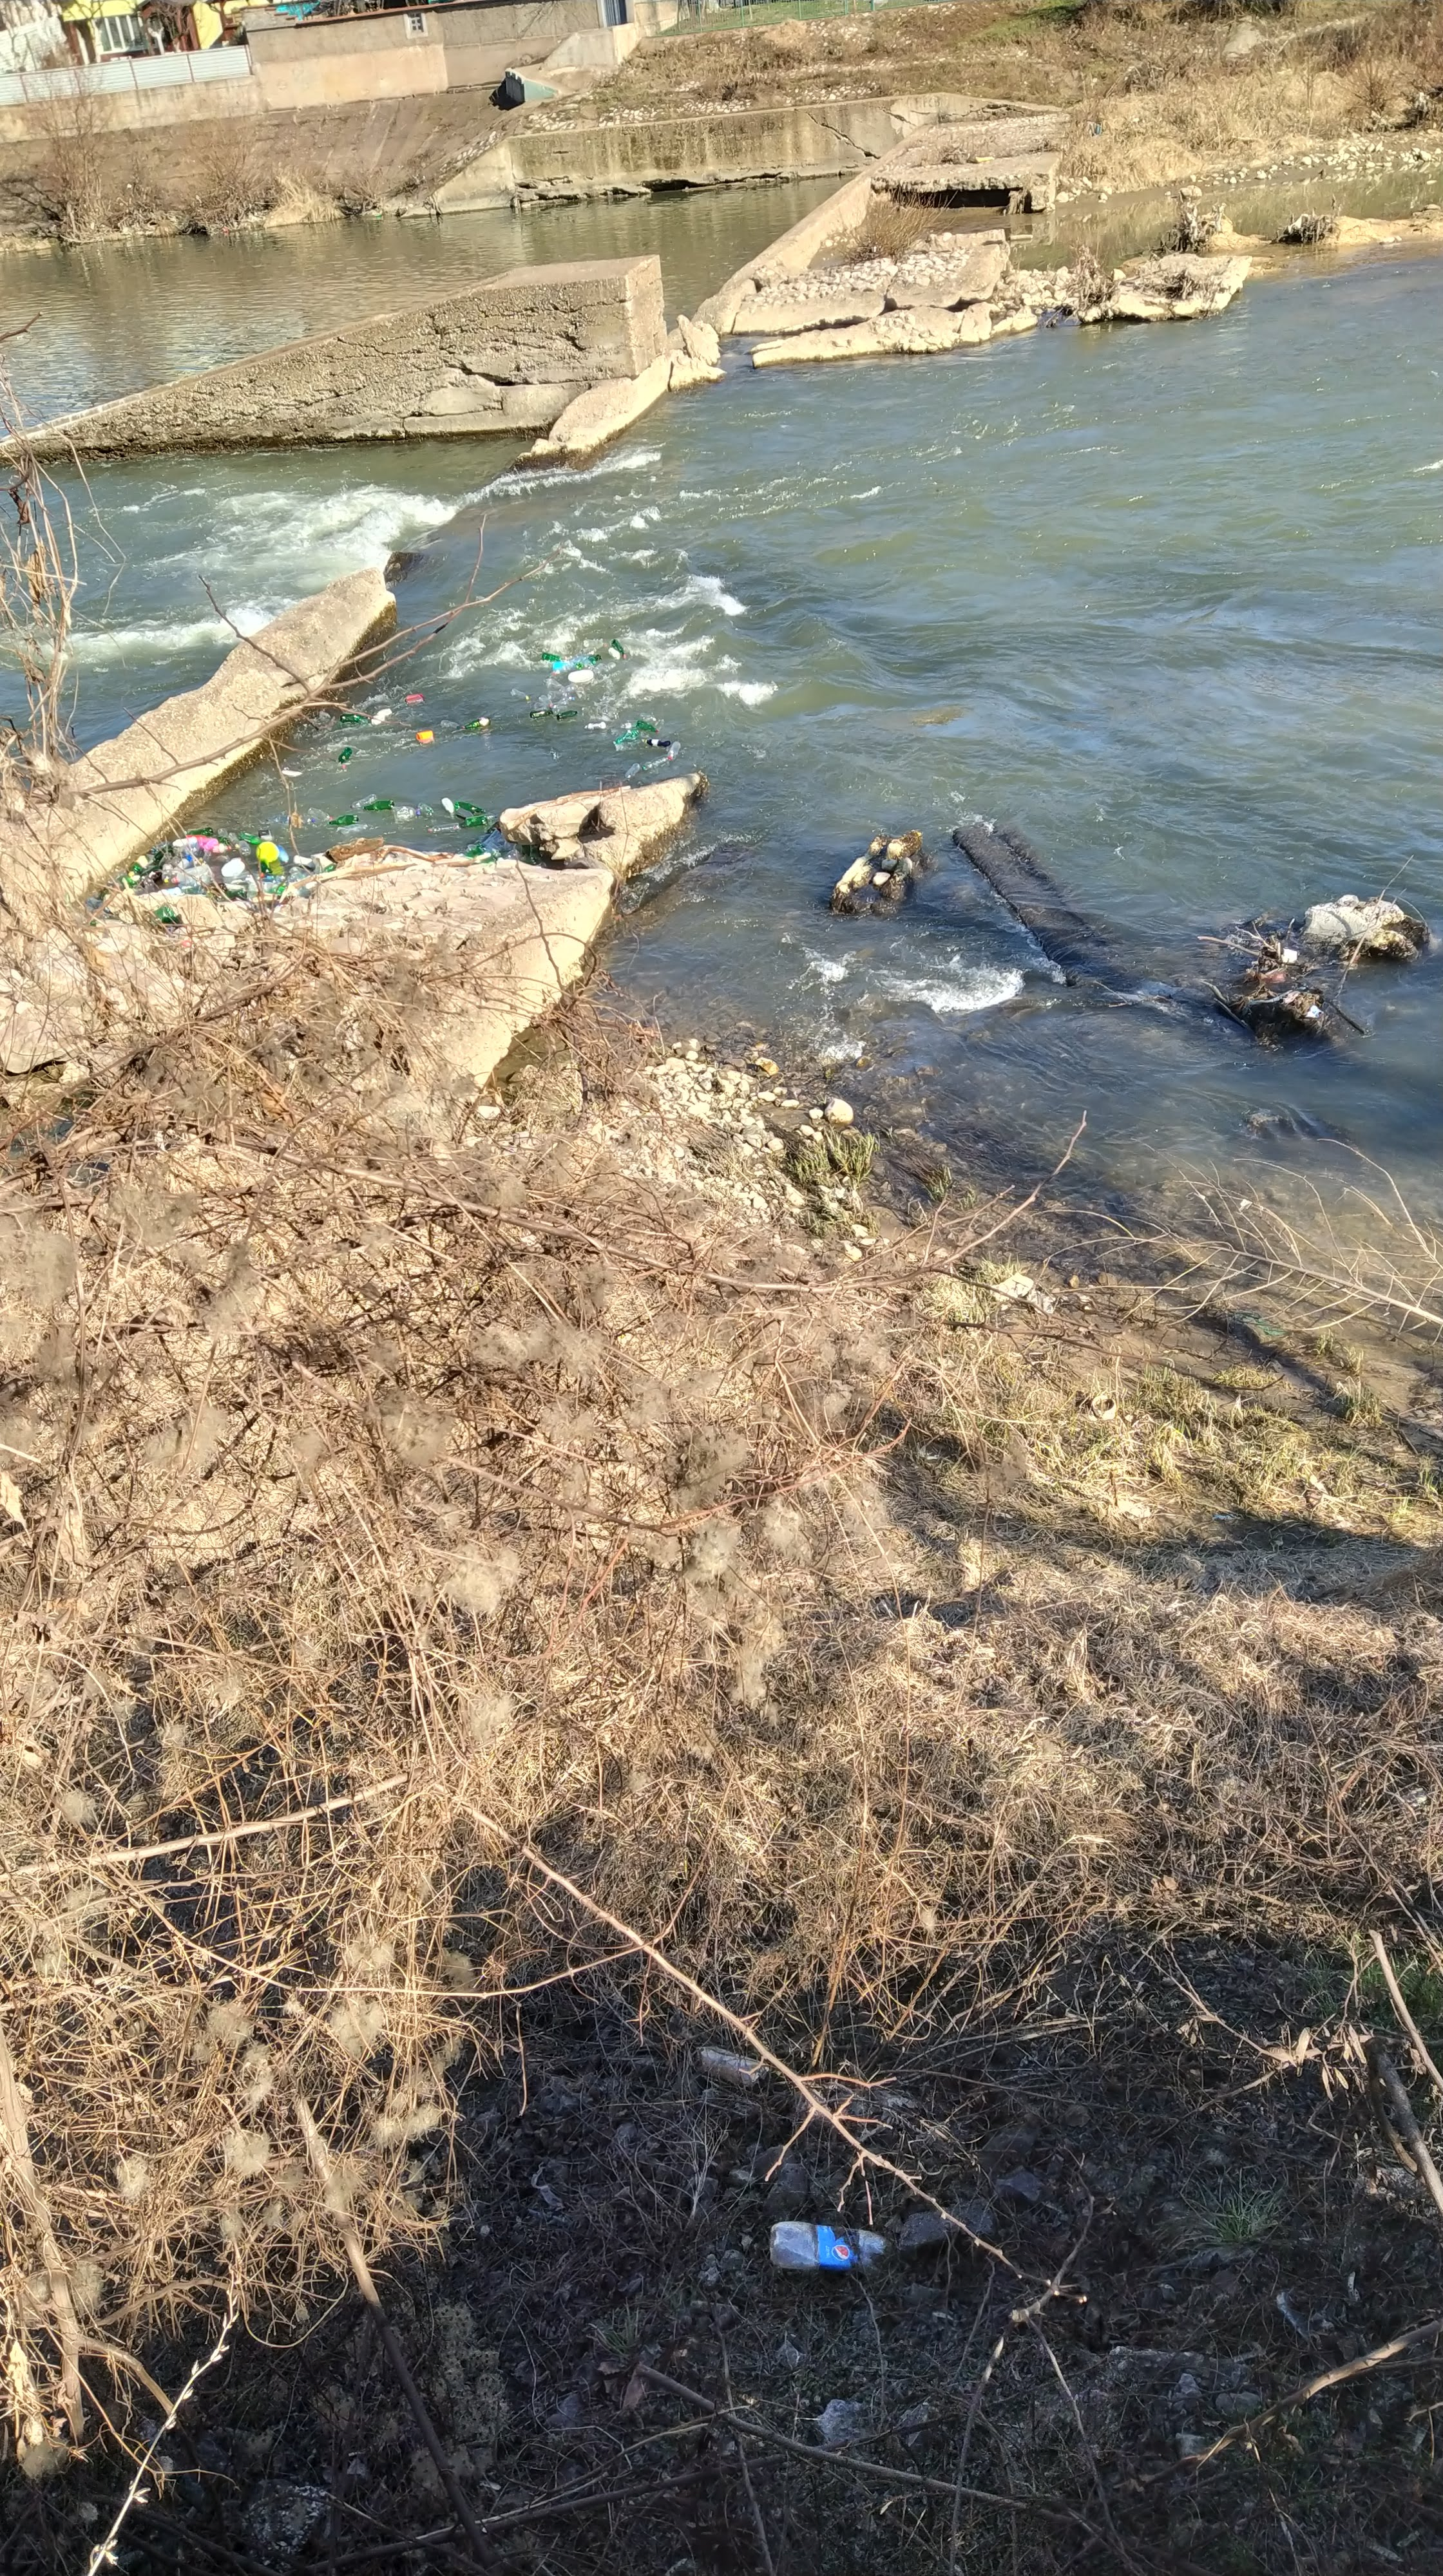Plastic Bottle: (170, 867, 209, 881), (391, 807, 420, 823), (129, 855, 150, 876), (221, 858, 244, 876), (453, 800, 485, 812), (641, 755, 667, 770), (351, 793, 377, 807), (611, 639, 629, 658), (328, 814, 359, 824), (427, 823, 459, 833), (464, 717, 490, 729), (338, 823, 368, 833), (365, 800, 395, 810), (140, 870, 161, 885), (636, 720, 659, 732), (308, 809, 331, 821), (460, 816, 487, 826), (170, 835, 197, 846), (667, 741, 682, 761), (551, 663, 572, 676), (294, 855, 315, 867), (623, 763, 639, 778), (418, 803, 434, 819), (614, 729, 637, 740), (278, 844, 290, 863), (150, 840, 170, 853), (218, 835, 234, 849), (646, 740, 671, 748), (512, 688, 529, 701), (320, 763, 345, 771), (188, 826, 212, 835), (175, 856, 193, 869), (598, 706, 618, 717), (241, 832, 260, 842), (584, 722, 607, 731), (583, 639, 606, 648), (529, 709, 552, 718), (338, 748, 352, 763), (158, 853, 172, 867), (607, 648, 623, 660), (441, 798, 453, 814), (239, 839, 251, 855), (544, 679, 561, 690), (556, 711, 577, 720), (163, 863, 172, 885), (340, 715, 365, 722), (260, 860, 273, 874), (228, 833, 241, 847), (156, 849, 170, 862), (639, 713, 659, 722), (441, 720, 460, 729), (404, 694, 423, 702), (485, 823, 501, 833), (549, 690, 567, 699), (269, 814, 287, 823), (542, 653, 563, 660), (604, 662, 618, 672), (259, 830, 273, 840), (218, 828, 232, 839), (542, 697, 554, 708), (145, 879, 156, 892), (579, 646, 597, 653), (621, 720, 636, 729), (577, 686, 586, 701), (533, 702, 549, 709), (593, 663, 604, 674), (554, 706, 568, 713), (565, 685, 579, 692), (301, 817, 315, 824), (487, 812, 498, 821), (584, 660, 593, 669), (590, 656, 595, 662), (374, 214, 381, 218), (577, 663, 581, 669)
